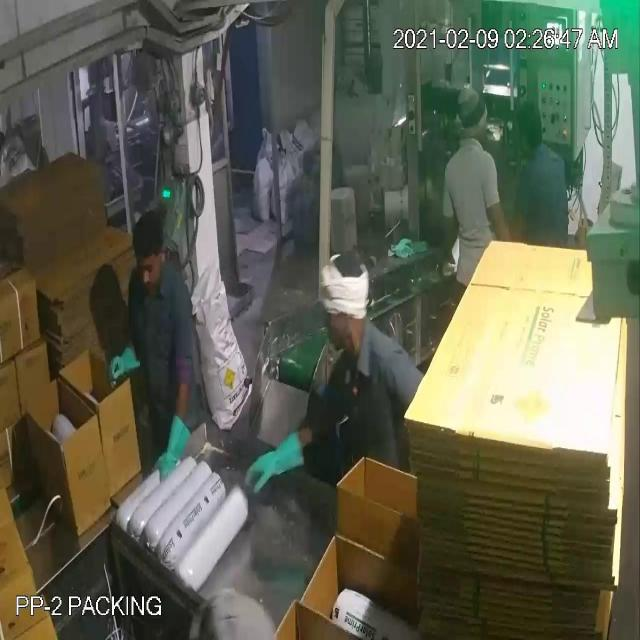Gloves: (20, 58, 450, 464)
